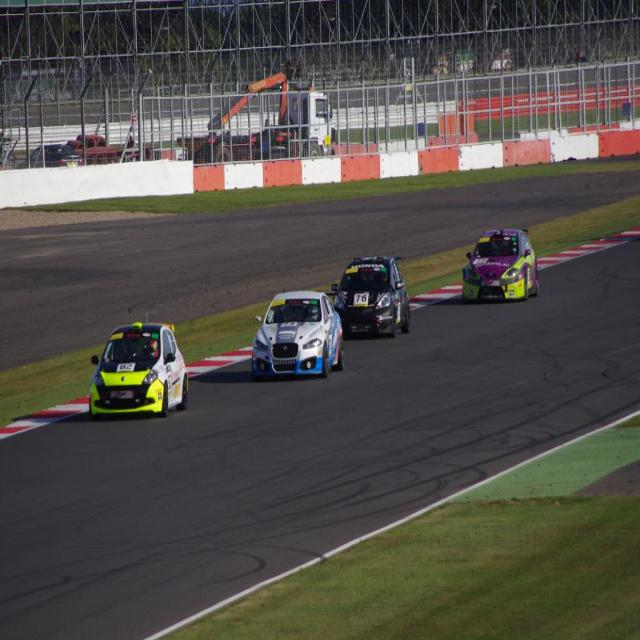car: (87, 309, 192, 416), (247, 285, 340, 381), (334, 249, 413, 338), (463, 227, 538, 298)
